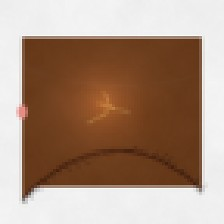corneal_ulcer: (82, 92, 120, 123)
